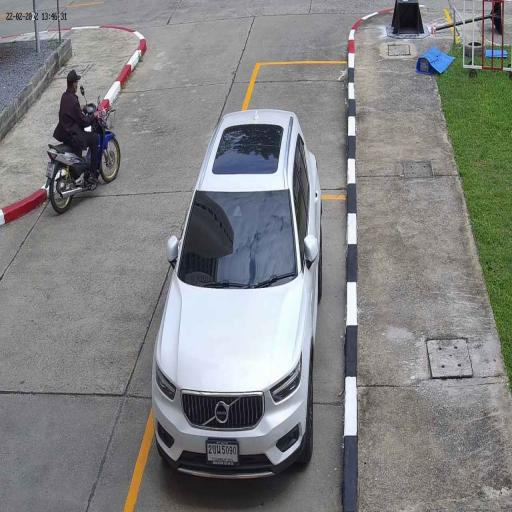car: (151, 108, 324, 485)
motorcycle: (44, 130, 122, 216)
